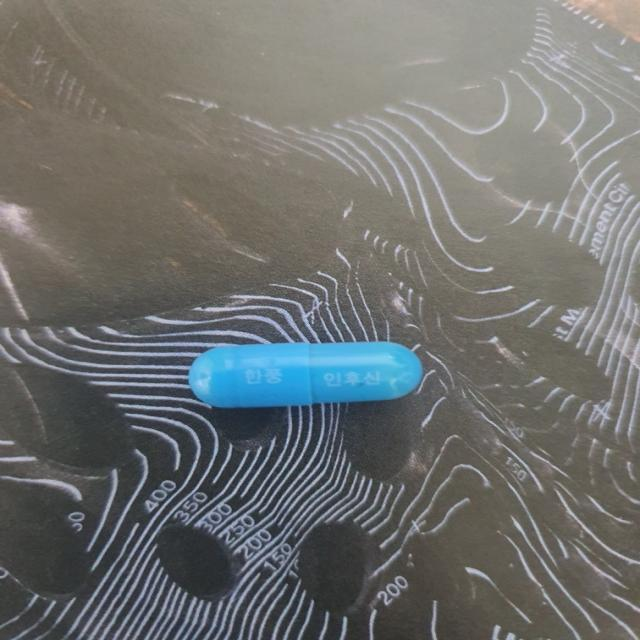pill: (191, 336, 428, 409)
